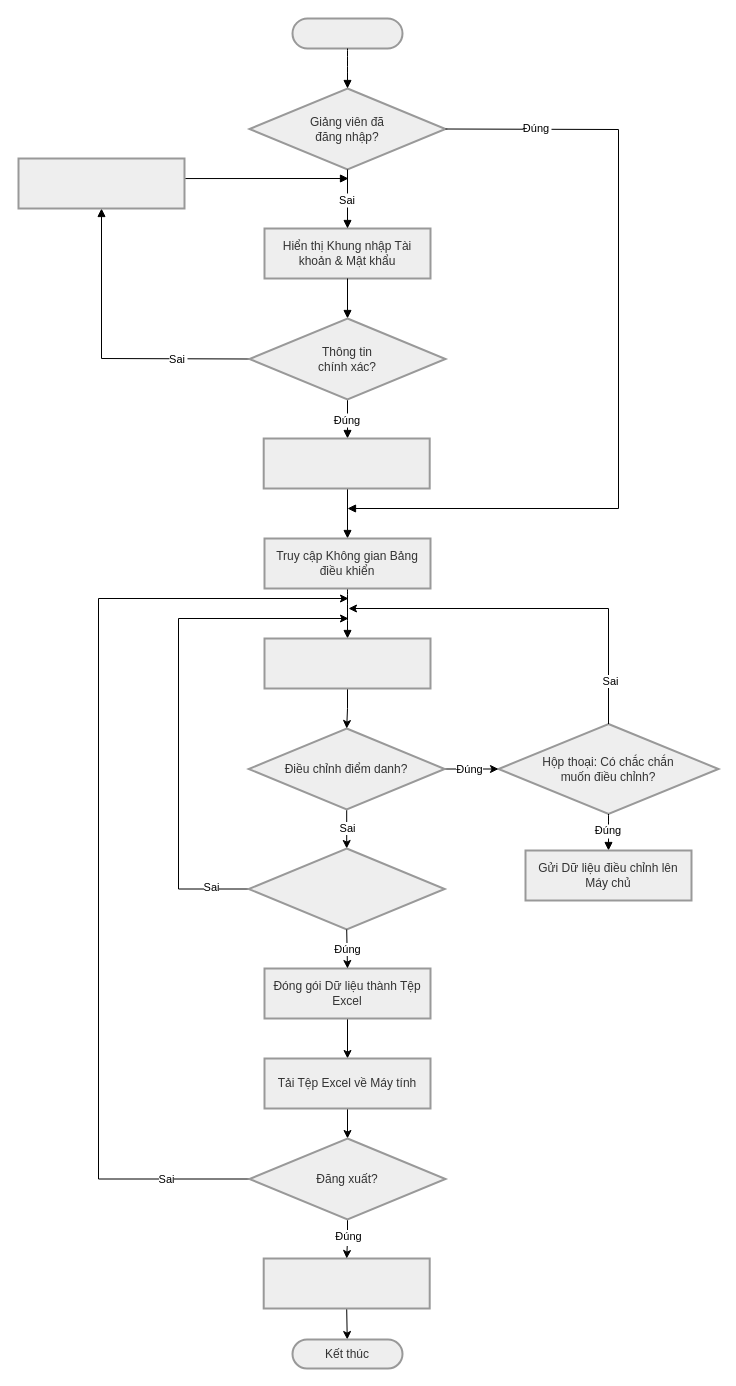
The diagram is 736 pixels wide and 1386 high, and some of its shapes have lost their labels. The box of each missing label's shape, as (x1, y1, x2, y2) in pixels:
Báo lỗi & Hiệu ứng rung lắc: (17, 157, 185, 209)
Bắt đầu: (291, 17, 403, 49)
Cấp và Lưu Chìa khóa bảo mật: (262, 437, 430, 489)
Dọn dẹp phiên làm việc & Xóa Chìa khóa: (262, 1257, 430, 1309)
Hiển thị thông tin lớp học: (263, 637, 431, 689)
Xuất file Excel?: (247, 847, 445, 930)
